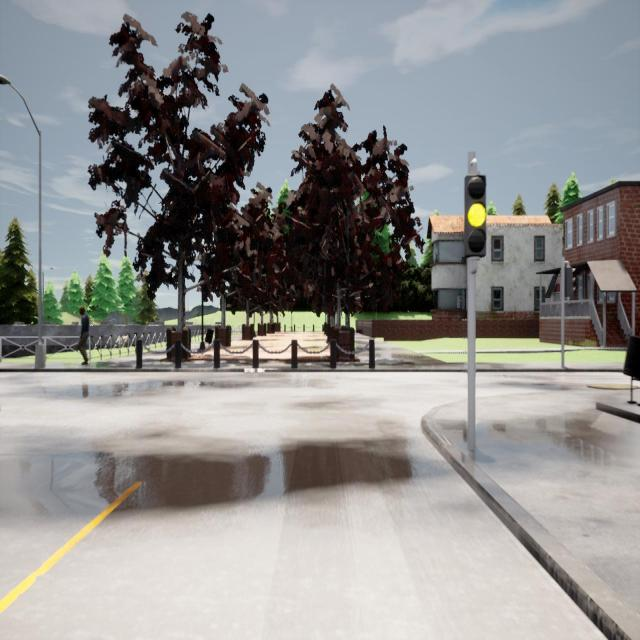Pedestrian: (79, 306, 89, 365)
traffic_light: (464, 174, 486, 257), (565, 268, 576, 297)
